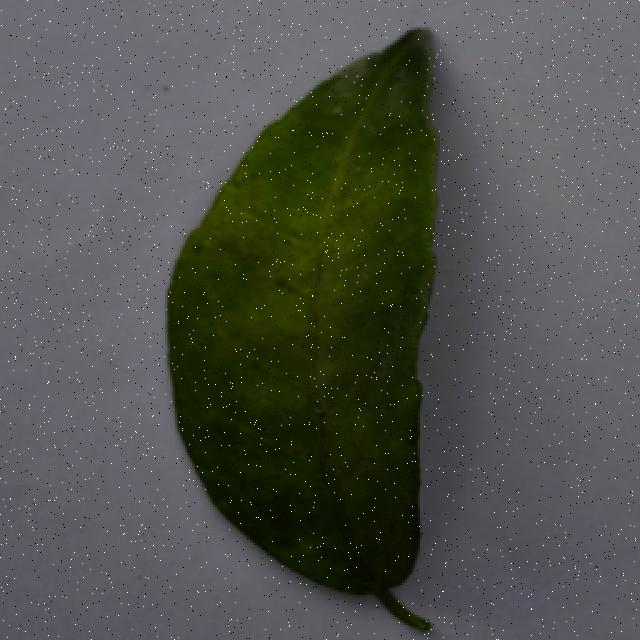blackspot: (158, 24, 523, 640)
